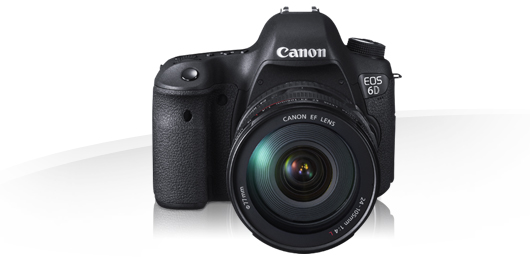camera: (153, 45, 397, 251)
